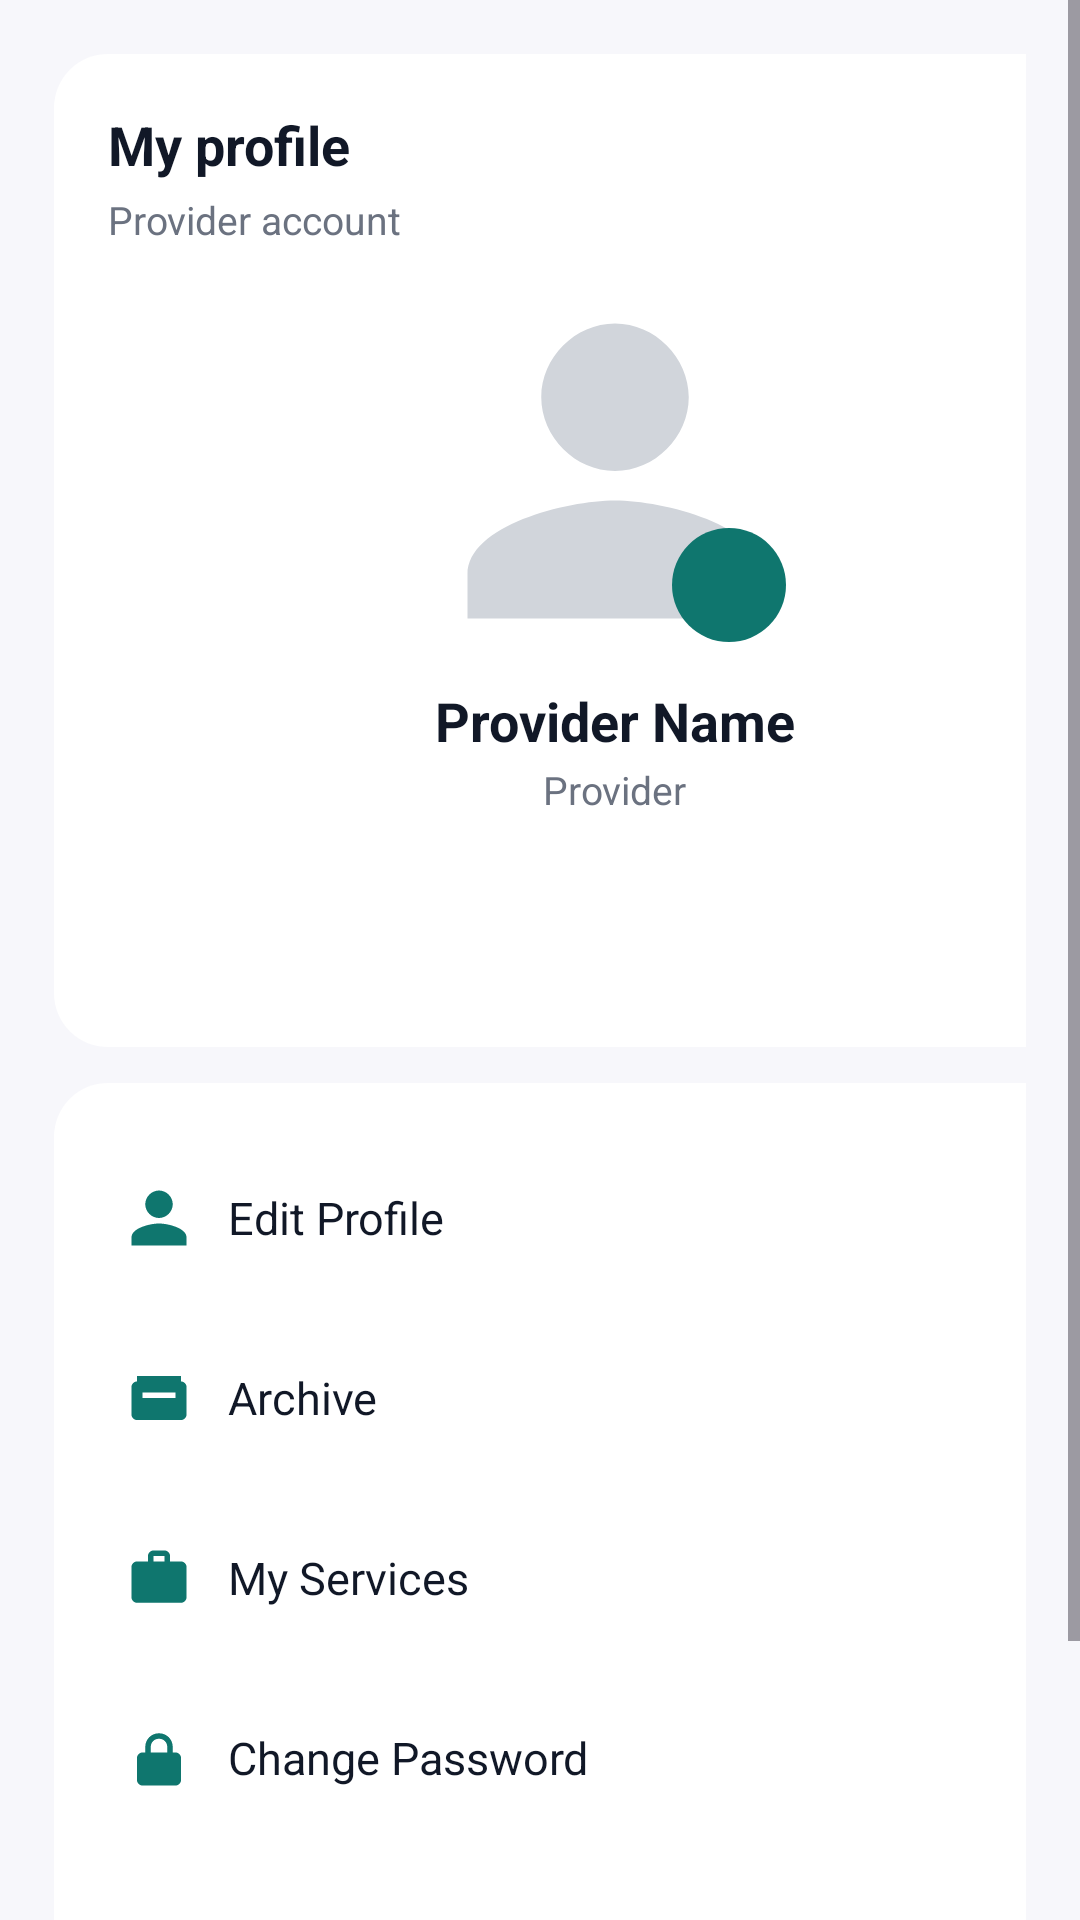

Screen size 1080×1920. Icon name, then its center in pixels as point (x, y):
briefcase: point (159, 1576)
lock: point (159, 1759)
user: point (159, 1218)
